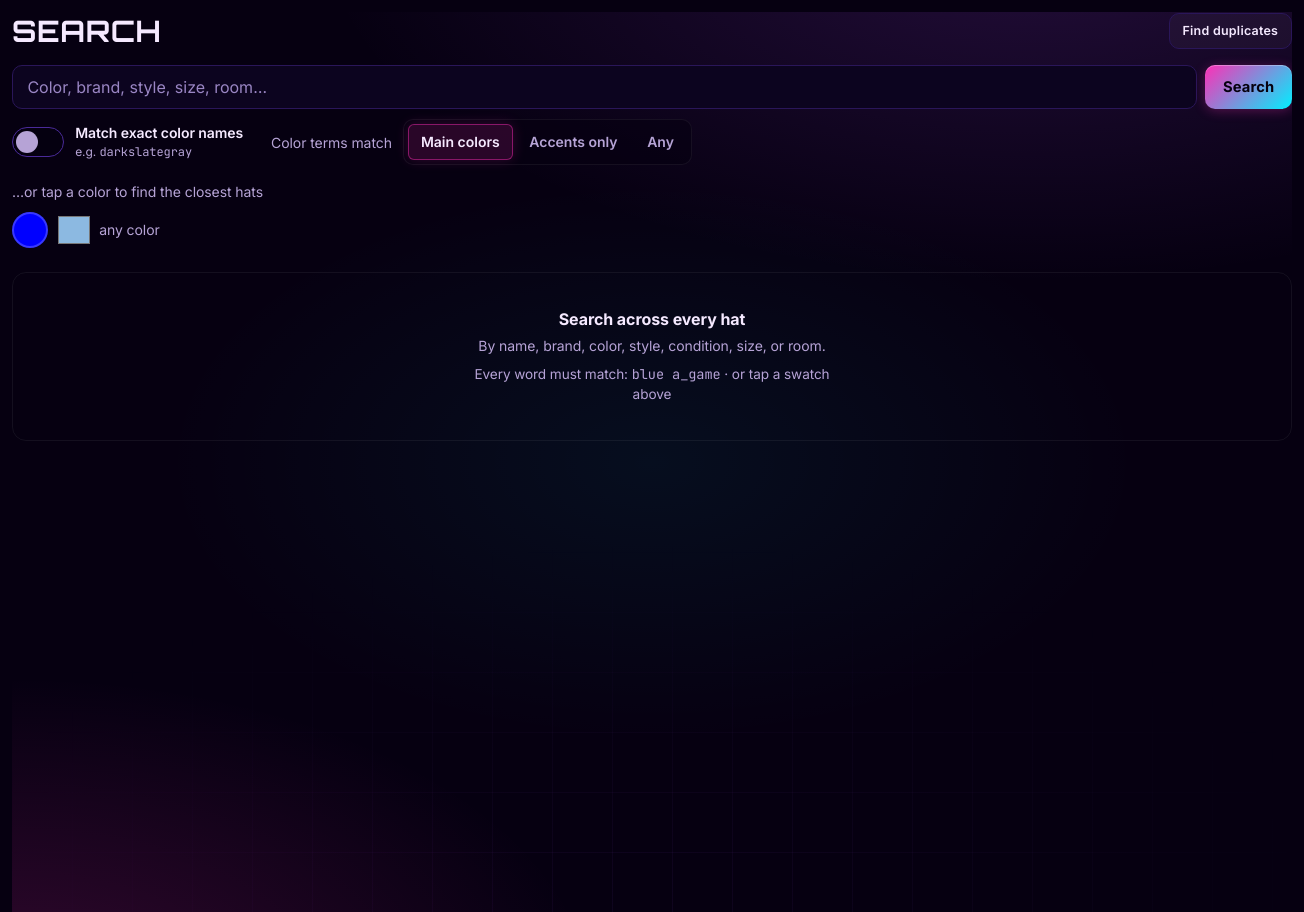
Test: SearchPage live search › searches once typing pauses, not on every keystroke
Type "blue" into the search field named "Search hats" at x=605, y=87, box [12, 65, 1197, 109]
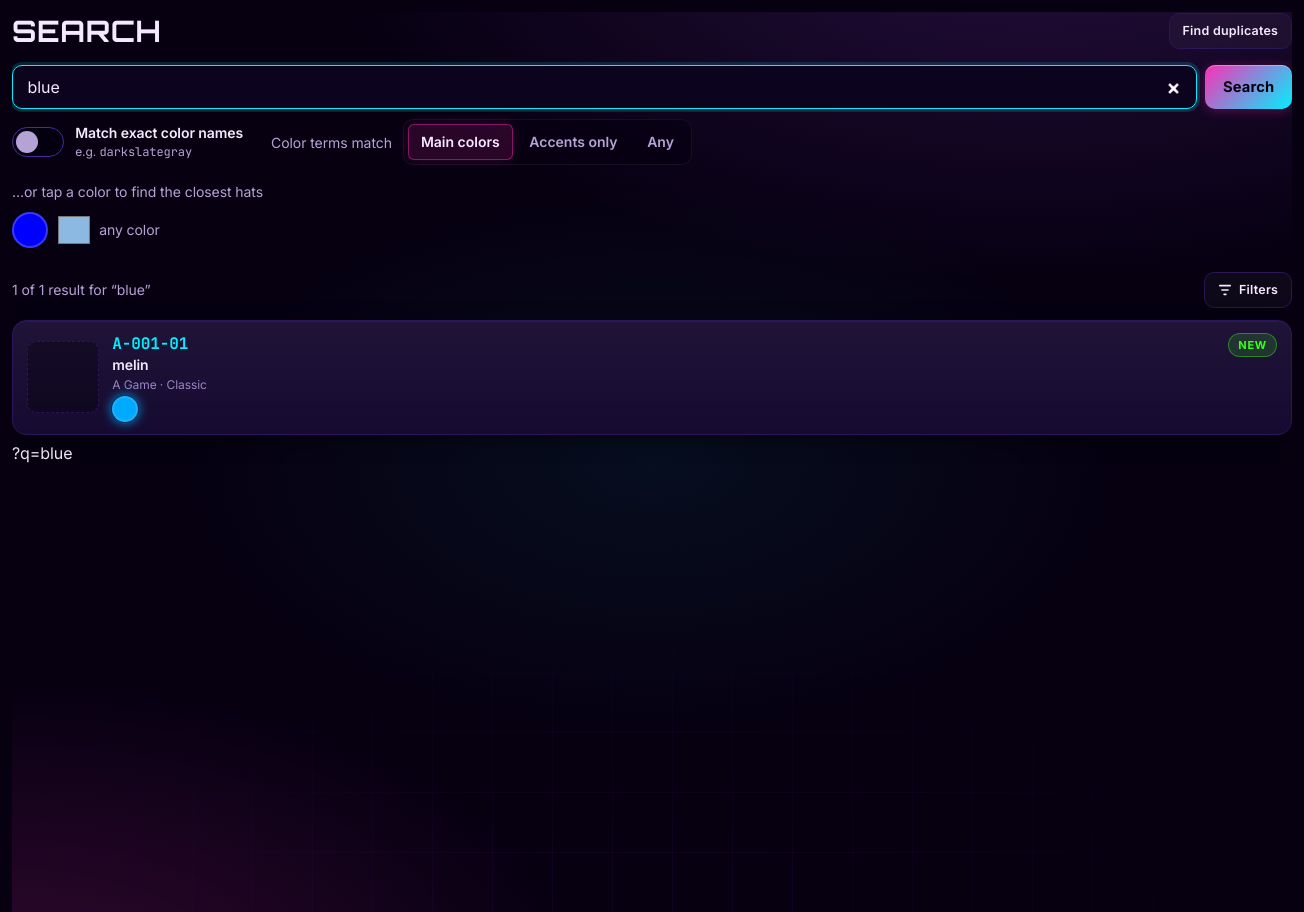
expect the text "A-001-01" is shown: met, box [112, 333, 188, 354]
